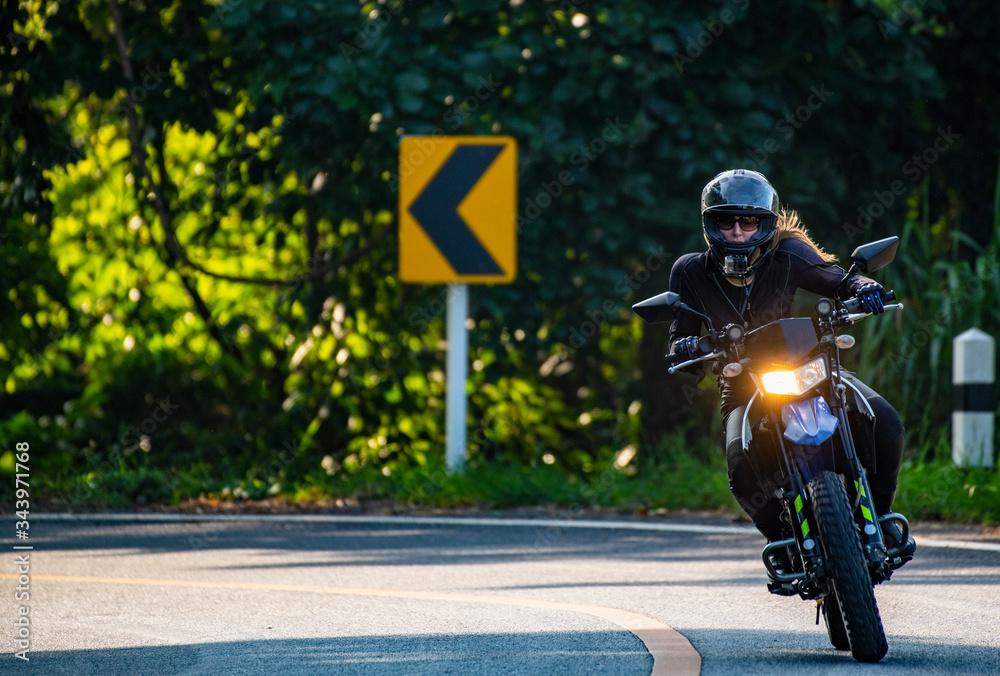helmet: (700, 167, 781, 279)
